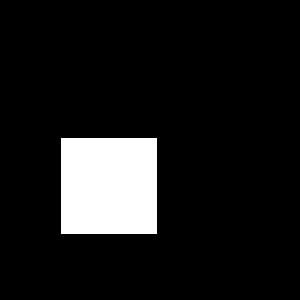circle: (61, 138, 157, 234)
